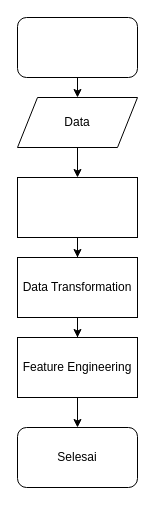
The diagram is 155 pixels wide and 505 high, and some of its shapes have lost their labels. The centre of each missing label's shape, as x and y in pixels:
Cleaning: the point at 77,207
Mulai: the point at 77,47
